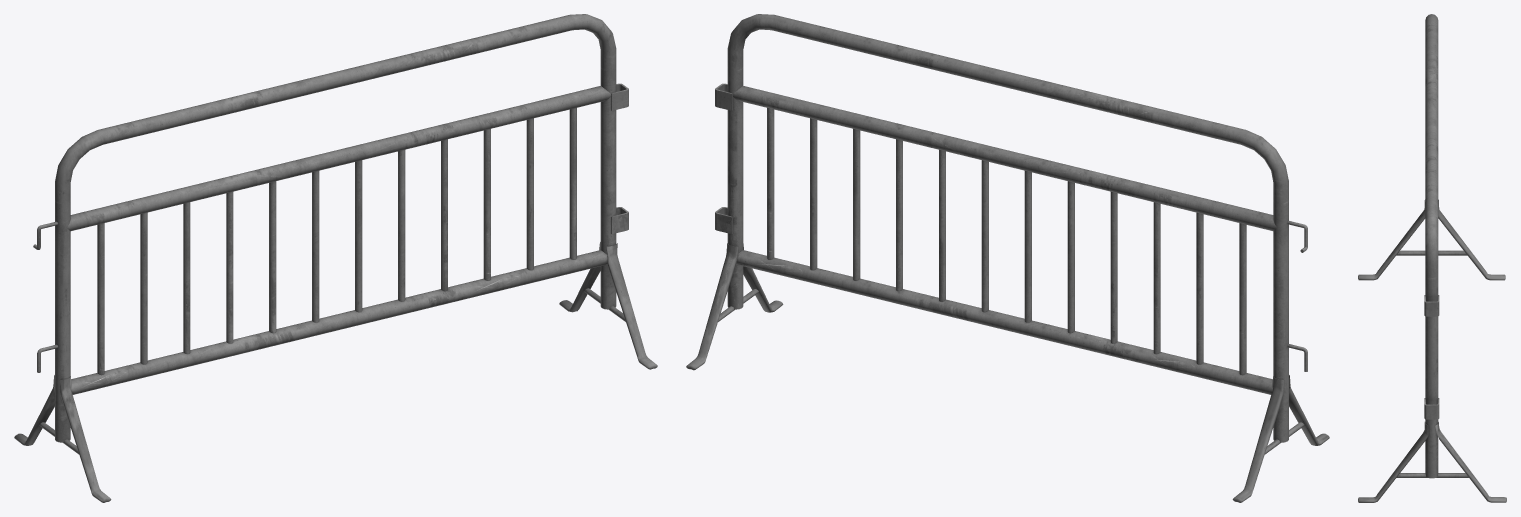
3 renders of one model, left to right at view 1: azimuth 30°, elevation 25°; view 2: azimuth 150°, elevation 25°; view 3: azimuth 270°, elevation 25°, orthographic. The views are drawn at different scales.
Parts seen in each view (by area): view 1: Fence4_0; view 2: Fence4_0; view 3: Fence4_0.
Part boxes in pixels (box(x1,y1,x2,y2)): Fence4_0: box(14, 14, 657, 502); Fence4_0: box(686, 14, 1329, 502); Fence4_0: box(1358, 14, 1506, 502).
Size of the model in its own units: 2.16 by 1.16 by 0.5654.
Materials: 1 (1 with a texture image).
